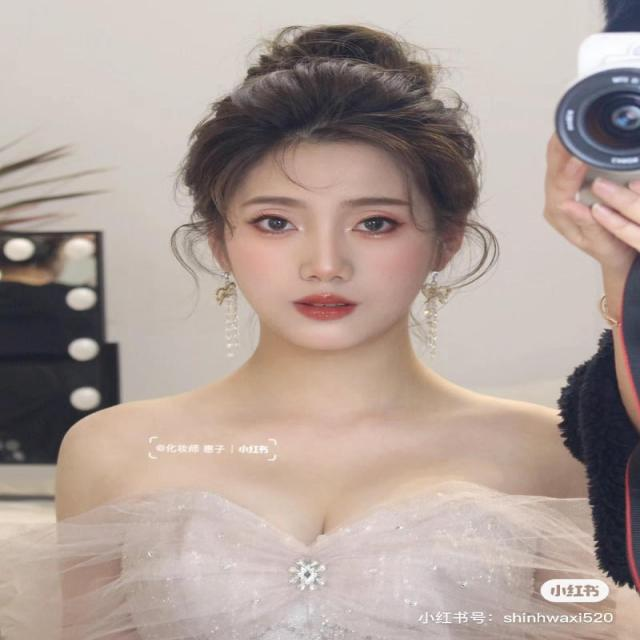Nonhelmet: (161, 14, 495, 361)
